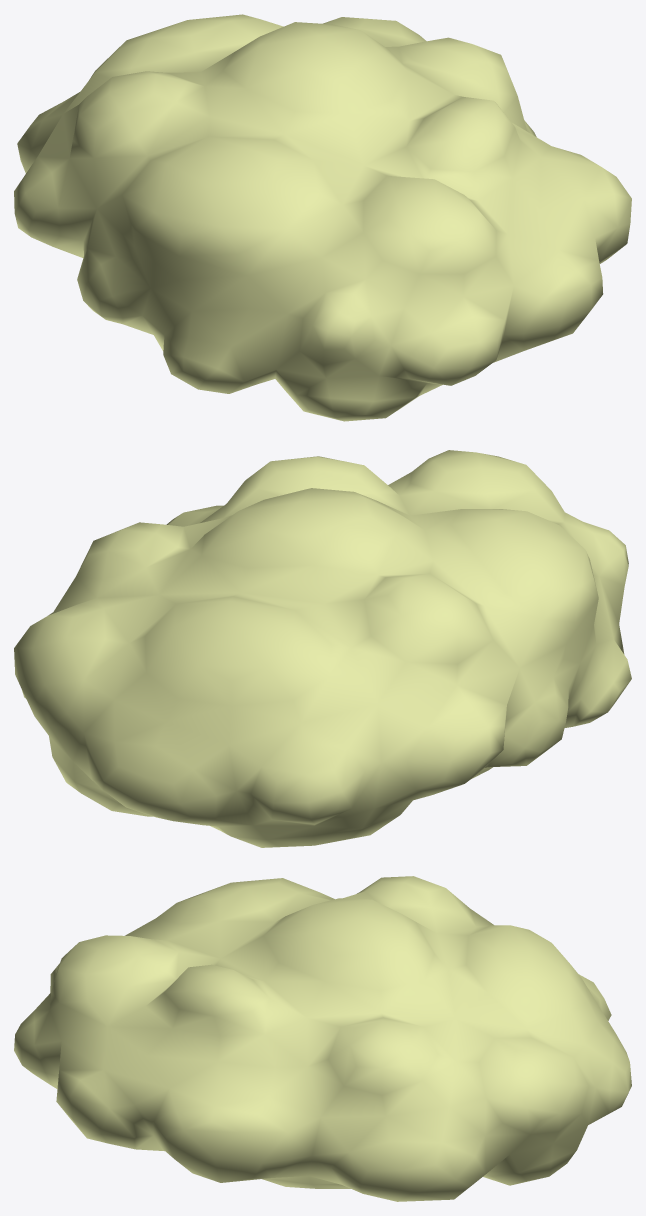
The model's file is Clouds.fbx.
The picture shows the model from 3 angles, top to bottom: view 1: azimuth 30°, elevation 25°; view 2: azimuth 150°, elevation 25°; view 3: azimuth 270°, elevation 25°; orthographic projection. The views are drawn at different scales.
Parts seen in each view (by area): view 1: cloud; view 2: cloud; view 3: cloud.
Part boxes in pixels (<box>): cloud: <box>14,14,631,421</box>; cloud: <box>14,450,631,847</box>; cloud: <box>14,876,631,1201</box>.
Size of the model in its own units: 236 by 119 by 297.
